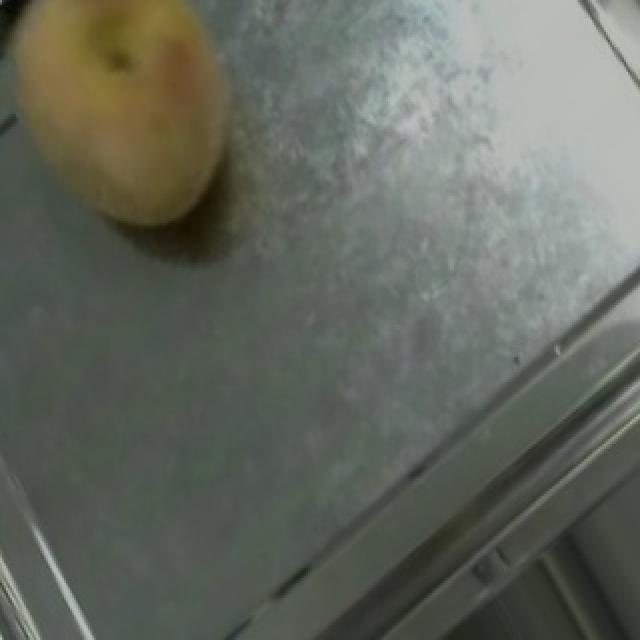Fruit: (0, 0, 278, 263)
